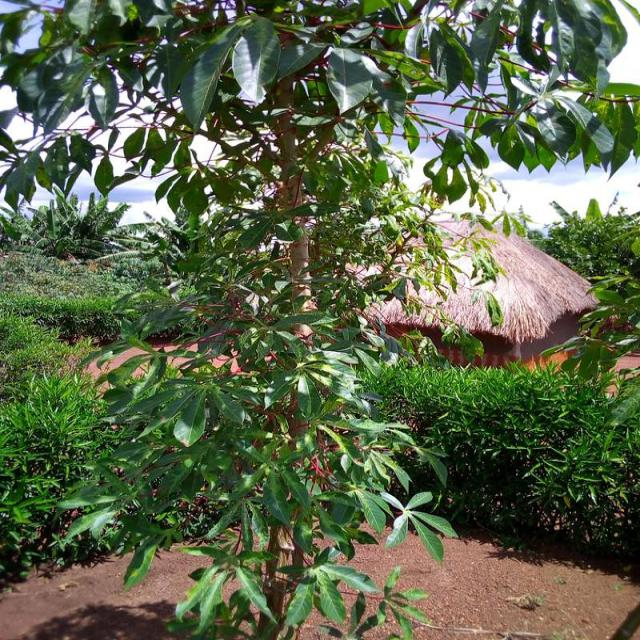cassava leaf: (2, 1, 636, 636)
